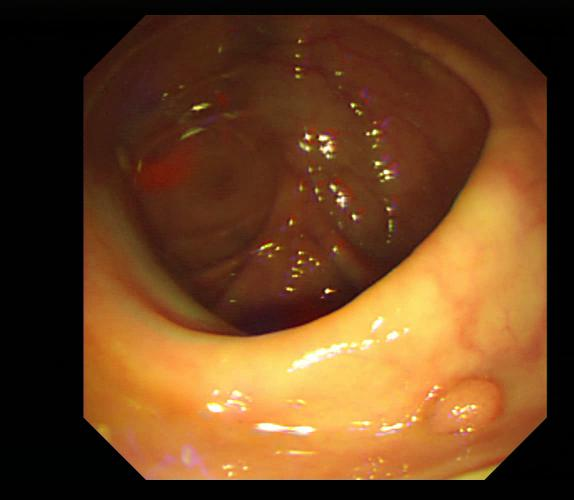polyp: (430, 377, 502, 431)
